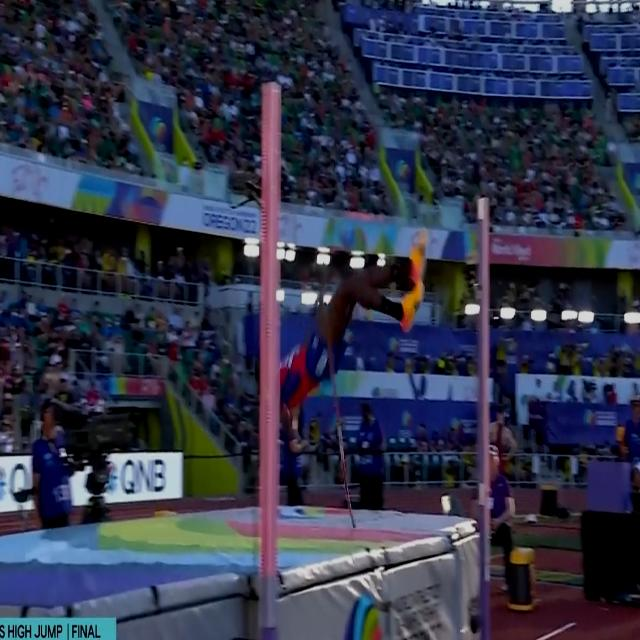land: (281, 236, 432, 444)
